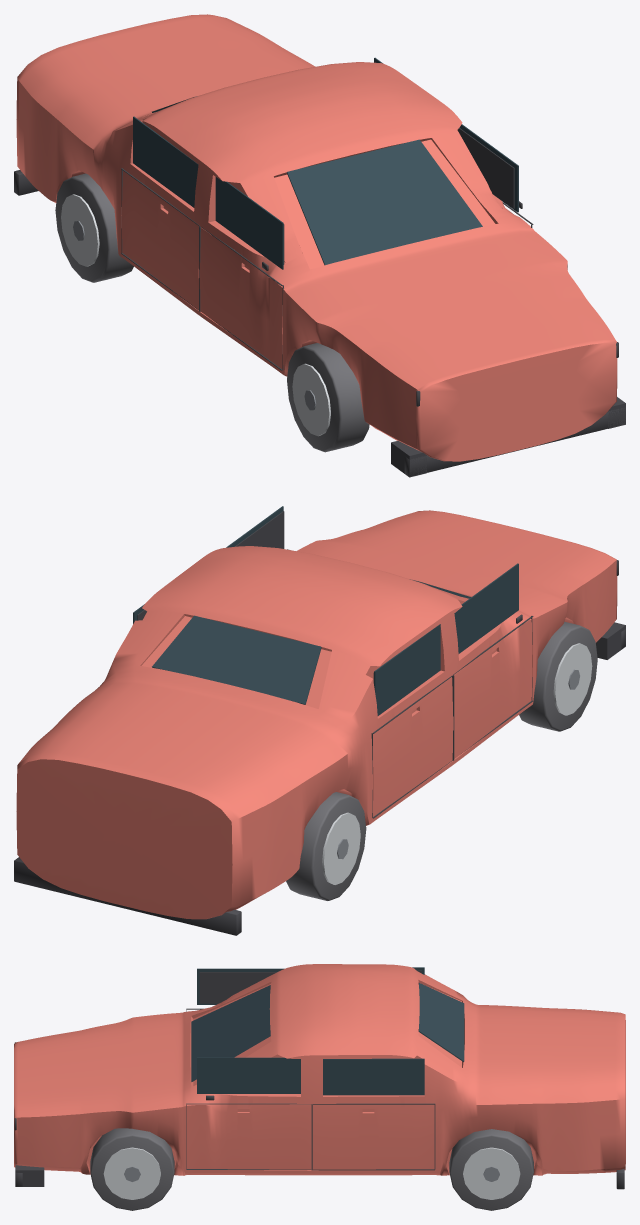
Rendered from Sedan_Compact_25.fbx.
3 renders of one model, top to bottom at view 1: azimuth 30°, elevation 25°; view 2: azimuth 150°, elevation 25°; view 3: azimuth 270°, elevation 25°, orthographic. The views are drawn at different scales.
Visible parts, largest first — view 1: LOD0; view 2: LOD0; view 3: LOD0.
Boxes of the visible parts, left/top/right/bottom form: LOD0: left=14, top=14, right=625, bottom=477; LOD0: left=14, top=506, right=625, bottom=935; LOD0: left=14, top=964, right=625, bottom=1210.
Size of what is drawn, in the model's own units: 181 by 141 by 466.
